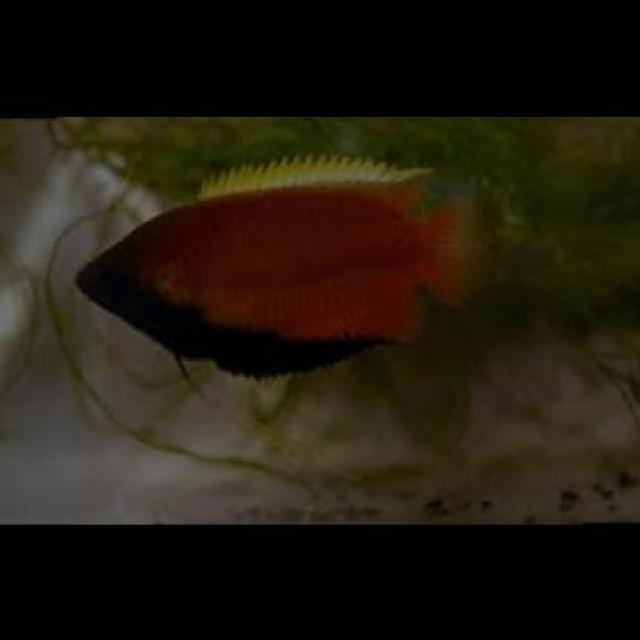Gourami: (72, 158, 486, 377)
